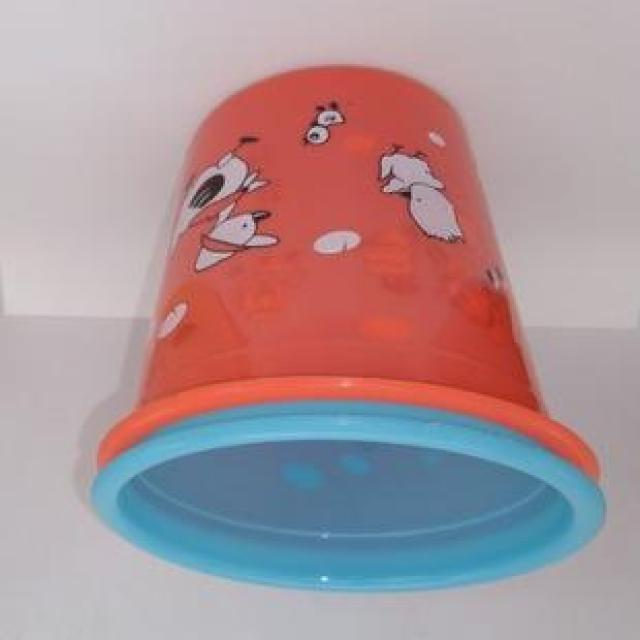dustbin: (77, 55, 614, 597)
